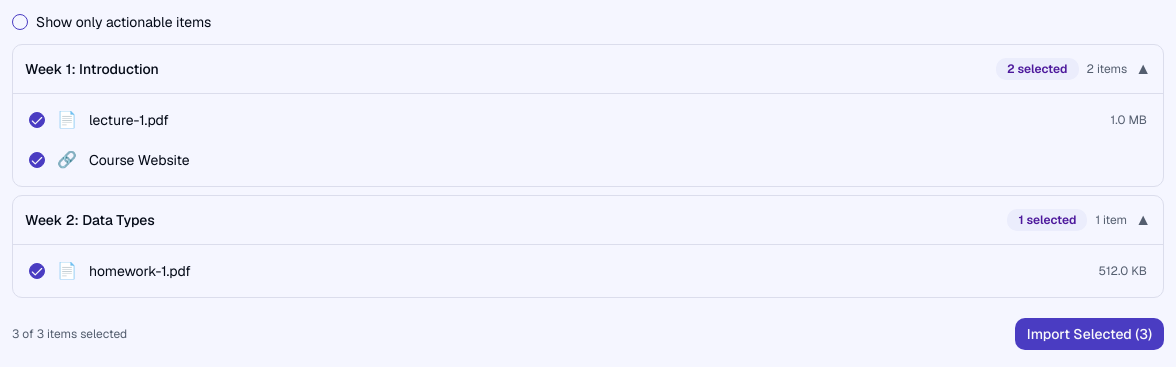
it: MoodleFilePicker › toggles item selection when checkbox is clicked
Expected: the text "lecture-1.pdf" is shown, [89, 111, 169, 129]
What coordinates should you click on to do the following:
click the checkbox named "select lecture-1.pdf"
I would click on:
 (37, 120)
Its box is [29, 112, 45, 128].
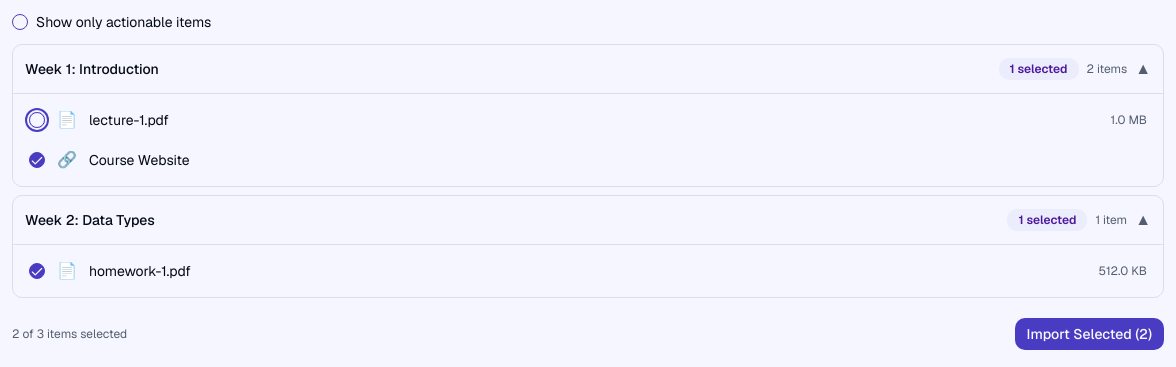
Now the button "Import Selected (2)" is shown, box [1015, 318, 1164, 350]
